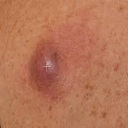Melanoma: (30, 50, 65, 88)
